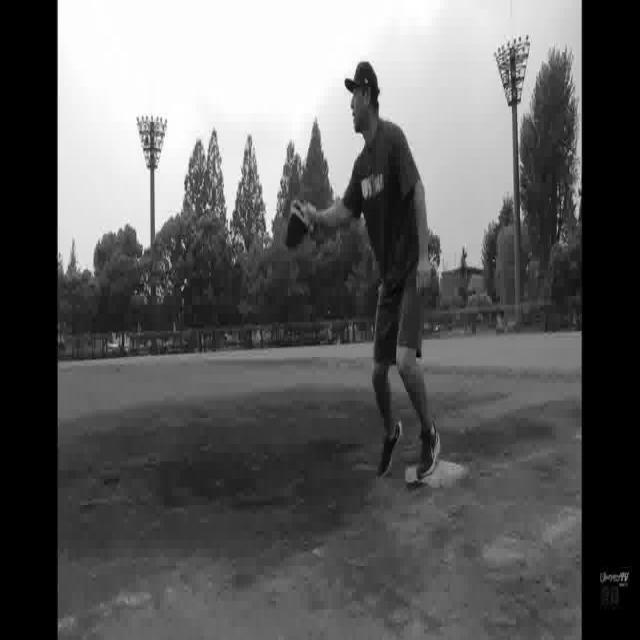base: (403, 462, 463, 492)
baseball_glove: (283, 192, 318, 244)
shoe: (379, 415, 403, 477), (416, 432, 440, 476)
